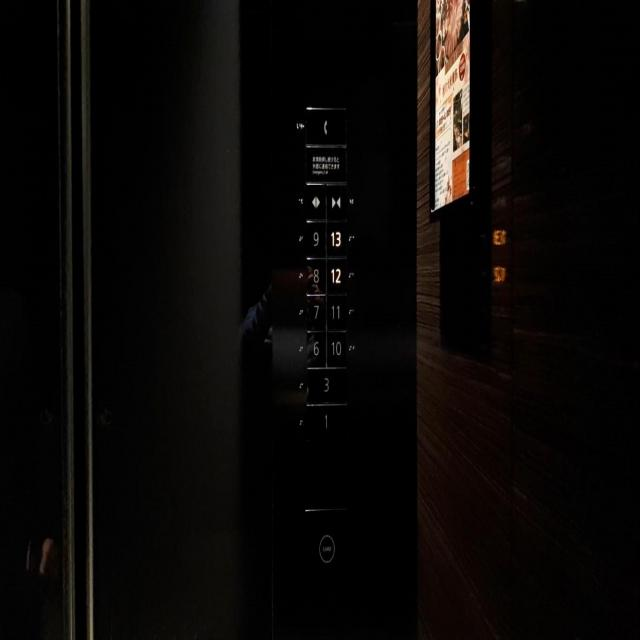1: (303, 398, 349, 440)
10: (325, 327, 348, 371)
11: (325, 289, 348, 333)
12: (325, 256, 348, 296)
13: (325, 217, 347, 260)
3: (303, 365, 349, 407)
6: (303, 327, 328, 371)
7: (302, 292, 328, 333)
8: (303, 256, 328, 296)
9: (303, 218, 327, 260)
call: (304, 105, 348, 149)
close: (325, 179, 348, 222)
open: (303, 179, 327, 221)
